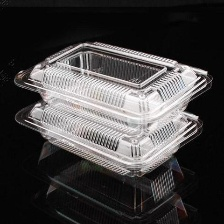plastic_box: (6, 33, 218, 183)
